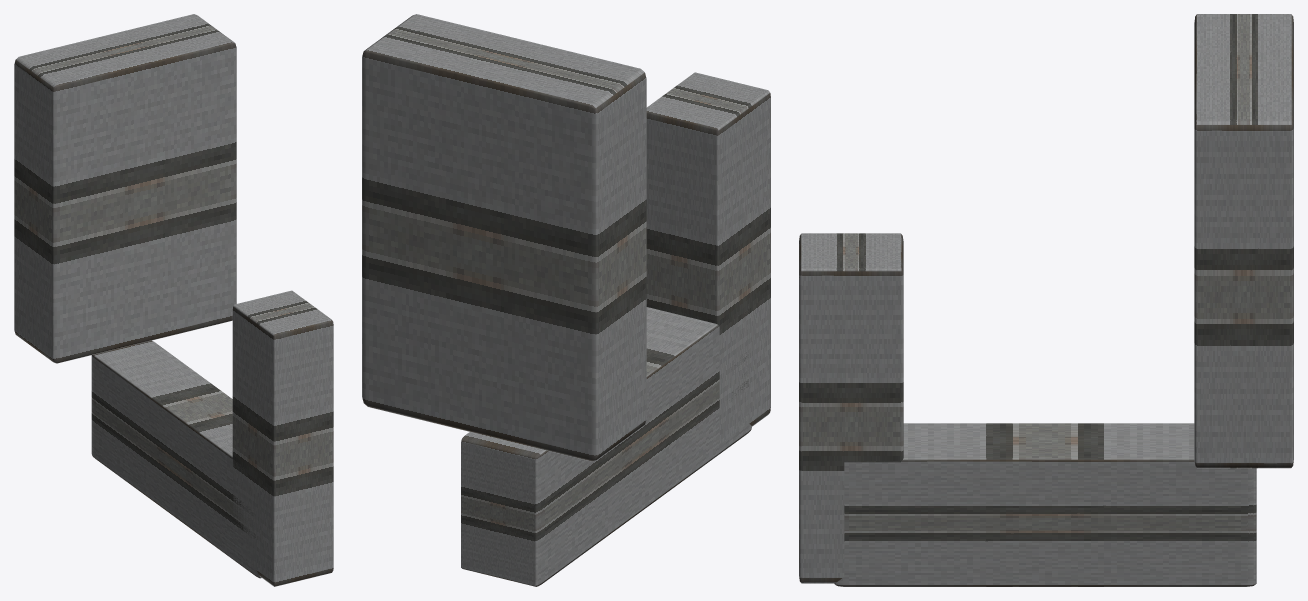
Rendered from faucet.glb.
The picture shows the model from 3 angles, left to right: view 1: azimuth 30°, elevation 25°; view 2: azimuth 150°, elevation 25°; view 3: azimuth 270°, elevation 25°; orthographic projection. The views are drawn at different scales.
Visible parts, largest first — view 1: foot, lip, arm; view 2: foot, lip, arm; view 3: arm, foot, lip.
Boxes of the visible parts, bbox=[...] form: foot: bbox=[14, 14, 236, 363]; lip: bbox=[232, 290, 333, 586]; arm: bbox=[91, 340, 261, 578]; foot: bbox=[362, 14, 646, 461]; lip: bbox=[646, 72, 770, 443]; arm: bbox=[461, 307, 751, 586]; arm: bbox=[834, 423, 1256, 586]; foot: bbox=[1194, 14, 1293, 468]; lip: bbox=[799, 233, 903, 583].
Size of the model in its own units: 0.112 by 0.234 by 0.209.
Materials: 1 (1 with a texture image).
